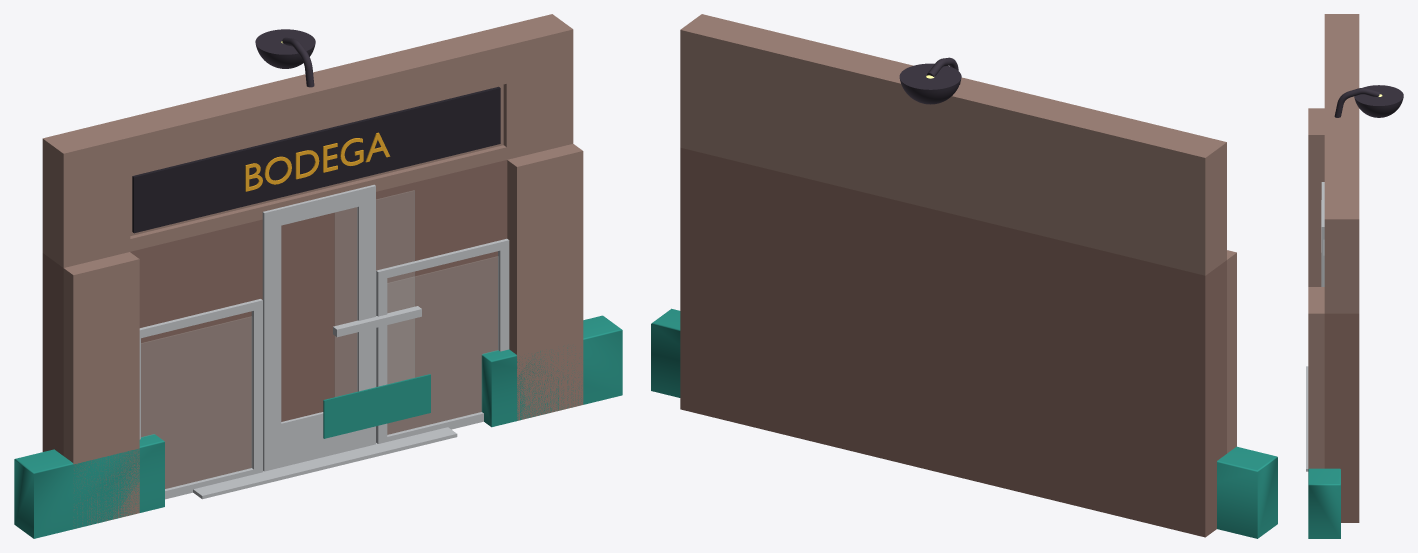
File: storefront.glb
3 renders of one model, left to right at view 1: azimuth 30°, elevation 25°; view 2: azimuth 150°, elevation 25°; view 3: azimuth 270°, elevation 25°, orthographic. The views are drawn at different scales.
Visible parts, largest first — view 1: back_wall, header, sign_panel, pier.001, pier, sidelight_glass.001, sidelight_glass, door_slab, bulkhead, door_glass, bulkhead.001, sidelight_frame (+6 smaller); view 2: back_wall, header, bulkhead, bulkhead.001, pier, lamp_shade; view 3: header, back_wall, pier.001, pier, bulkhead.001, lamp_shade, door_slab, gooseneck, threshold.
Boxes of the visible parts, x1=… form: back_wall: x1=42, y1=160, x2=507, y2=488; header: x1=42, y1=14, x2=573, y2=267; sign_panel: x1=132, y1=86, x2=500, y2=233; pier.001: x1=507, y1=144, x2=583, y2=420; pier: x1=63, y1=252, x2=139, y2=526; sidelight_glass.001: x1=141, y1=316, x2=251, y2=489; sidelight_glass: x1=387, y1=256, x2=498, y2=434; door_slab: x1=262, y1=184, x2=375, y2=471; bulkhead: x1=14, y1=434, x2=164, y2=538; door_glass: x1=334, y1=190, x2=414, y2=396; bulkhead.001: x1=481, y1=315, x2=622, y2=427; sidelight_frame: x1=376, y1=238, x2=509, y2=443; back_wall: x1=680, y1=147, x2=1226, y2=537; header: x1=680, y1=14, x2=1226, y2=275; bulkhead: x1=1217, y1=446, x2=1277, y2=538; bulkhead.001: x1=651, y1=308, x2=680, y2=397; pier: x1=1227, y1=250, x2=1236, y2=453; lamp_shade: x1=899, y1=63, x2=961, y2=104; header: x1=1324, y1=14, x2=1359, y2=313; back_wall: x1=1324, y1=313, x2=1359, y2=522; pier.001: x1=1308, y1=287, x2=1324, y2=468; pier: x1=1308, y1=108, x2=1324, y2=286; bulkhead.001: x1=1308, y1=468, x2=1340, y2=538; lamp_shade: x1=1354, y1=85, x2=1403, y2=117; door_slab: x1=1321, y1=182, x2=1324, y2=286; gooseneck: x1=1334, y1=88, x2=1379, y2=117; threshold: x1=1306, y1=366, x2=1308, y2=471.
Size of the model in its own units: 4.85 by 3.17 by 0.845.
